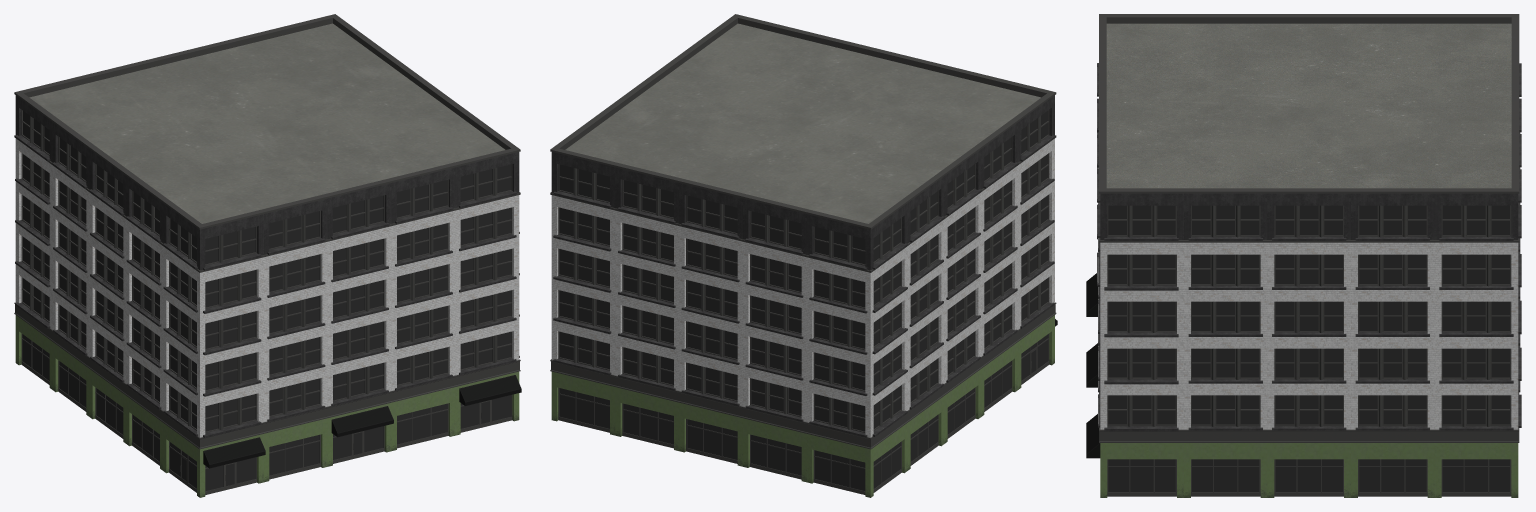
The picture shows the model from 3 angles, left to right: view 1: azimuth 30°, elevation 25°; view 2: azimuth 150°, elevation 25°; view 3: azimuth 270°, elevation 25°; orthographic projection. The views are drawn at different scales.
Parts seen in each view (by area): view 1: Building_Generic_Square_Green_17; view 2: Building_Generic_Square_Green_17; view 3: Building_Generic_Square_Green_17.
Part boxes in pixels (x1,y1,x2,y2): Building_Generic_Square_Green_17: (14,14,521,497); Building_Generic_Square_Green_17: (550,14,1057,497); Building_Generic_Square_Green_17: (1086,14,1521,497).
Size of the model in its own units: 27.94 by 22.28 by 28.64.
5 materials, 5 textured.
